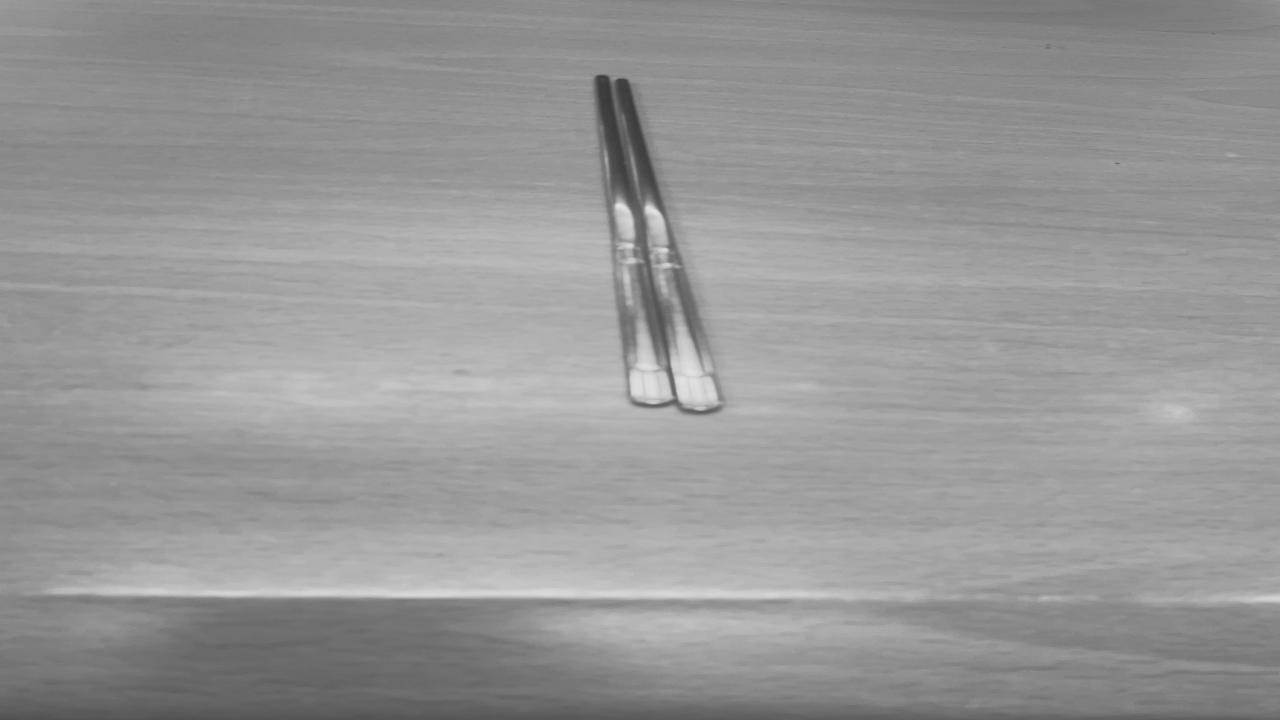chopstick: (595, 75, 730, 408)
